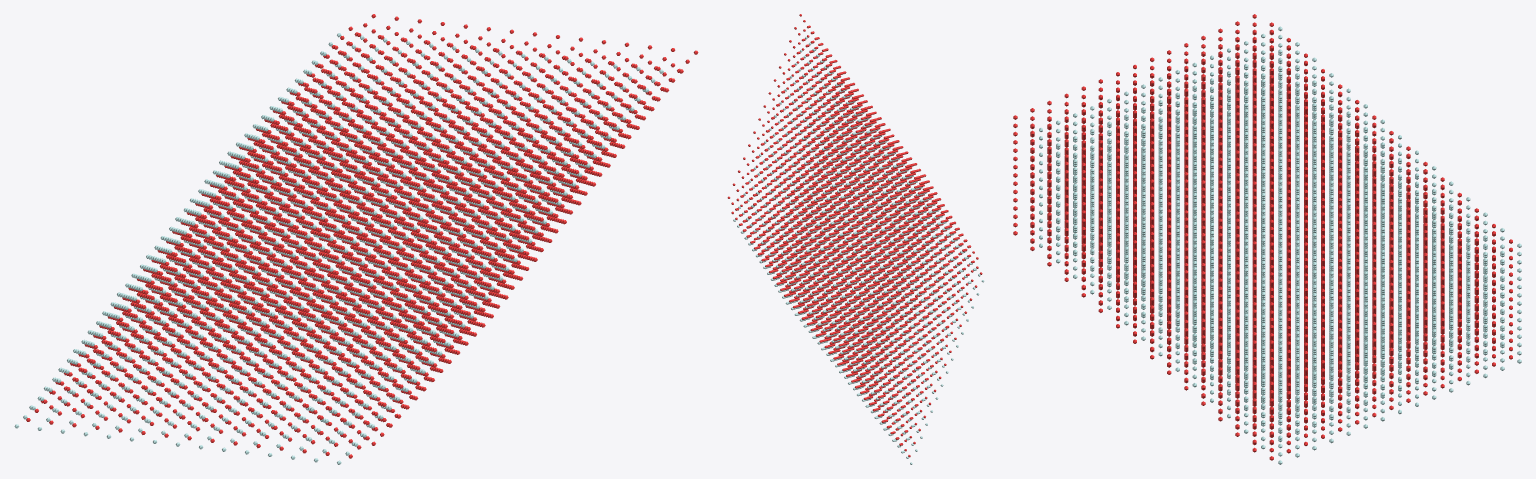
The model's file is zro2_tetragonal.glb.
3 views of the same model, side by side, from view 1: azimuth 30°, elevation 25°; view 2: azimuth 150°, elevation 25°; view 3: azimuth 270°, elevation 25° (orthographic). The views are drawn at different scales.
Size of the model in its own units: 76.15 by 76.15 by 76.15.
